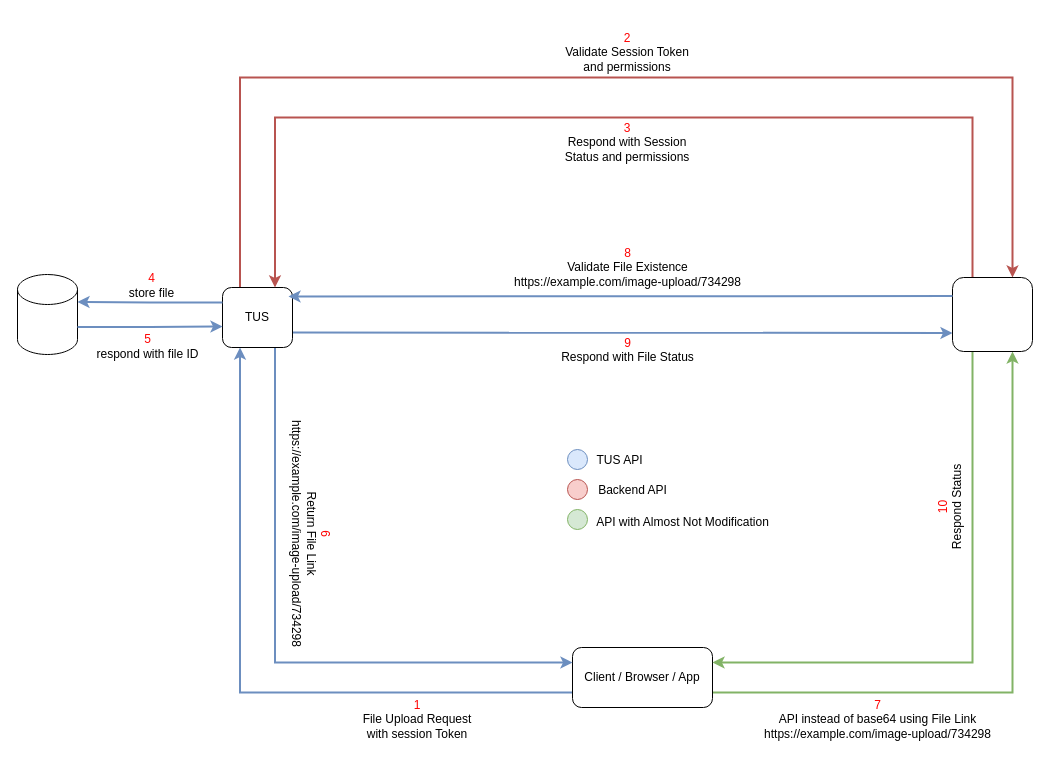
Some shapes in this 1050 by 771 pixel diagram are drawn without their labels. Here are the shapes that lost their labels. From the top down, the centre of each, then its label:
At (47,314): "Storage".
At (992,314): "Backend".
